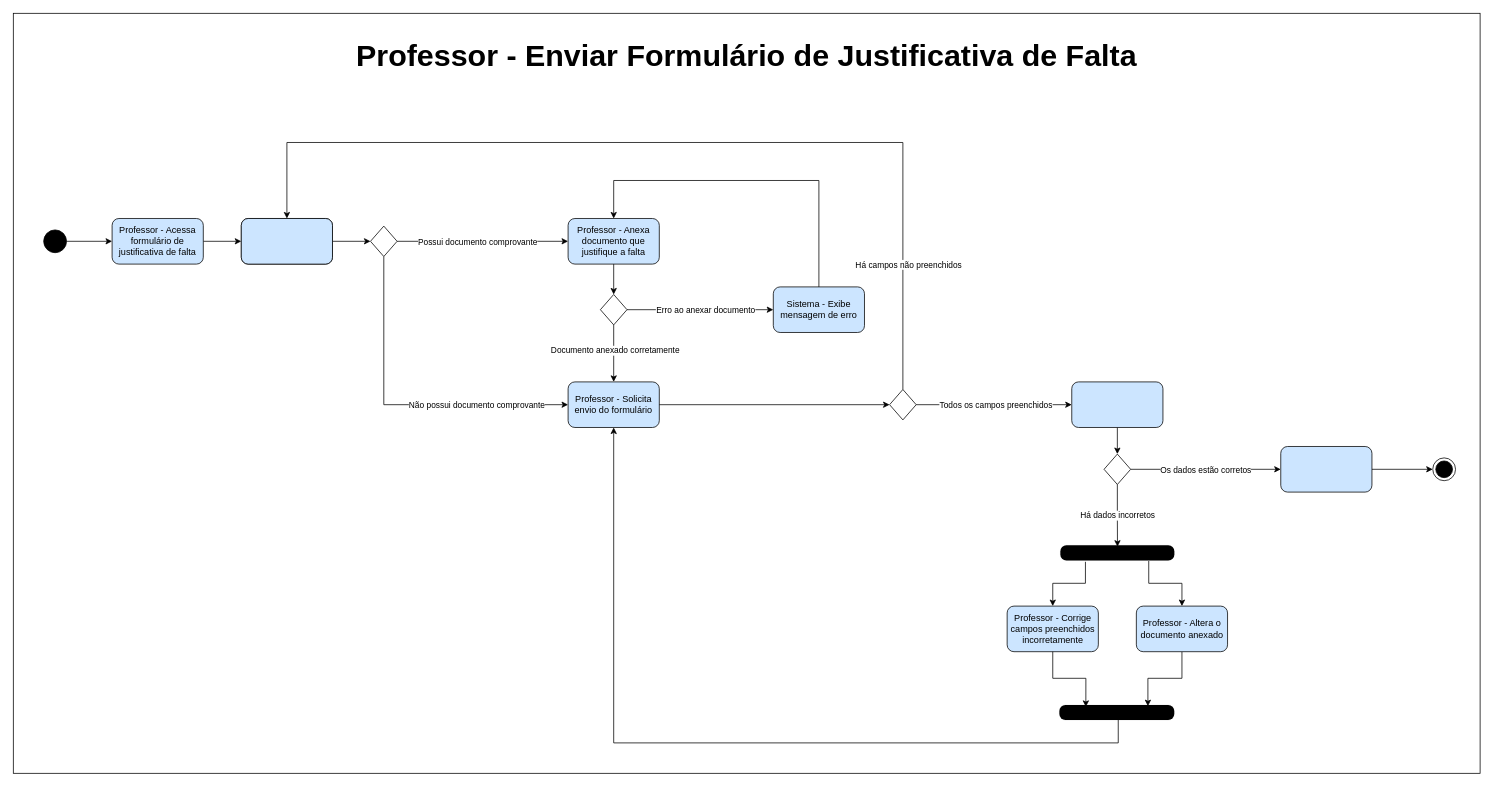
This 1493x787 diagram has some shape labels left out. The shapes that lost their labels are listed below. From the top down, each one's centre as x and y in pixels, then its label:
At (286,241): "Professor - Preenche formulário".
At (1117,404): "Professor - Revisa dados preenchidos".
At (1326,469): "Professor - Envia formulário para seu coordenador".
